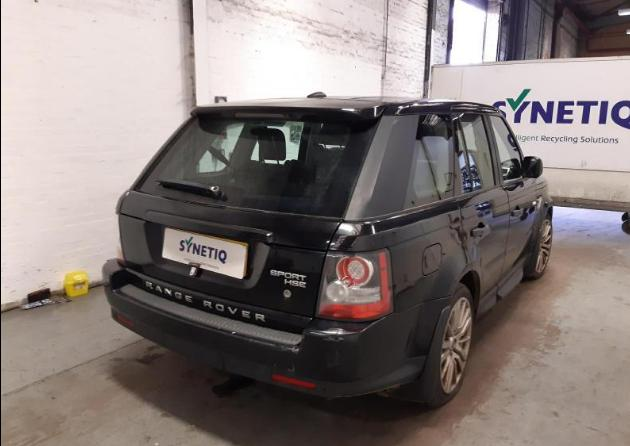Back-bumper: (102, 259, 452, 400)
Back-door: (453, 114, 509, 299)
Back-wheel: (411, 282, 475, 408)
Back-window: (133, 117, 377, 218), (404, 113, 452, 209), (458, 115, 494, 193)
Fender: (524, 176, 553, 276)
Front-door: (485, 113, 540, 284)
Front-wheel: (522, 215, 553, 281)
Front-window: (488, 115, 522, 181)
License-plate: (162, 227, 246, 276)
Mirror: (522, 156, 543, 179)
Quarter-panel: (328, 196, 472, 314)
Rocker-panel: (477, 253, 532, 323)
Roof: (250, 96, 500, 115)
Tail-light: (315, 248, 394, 322), (115, 214, 126, 265)
Trunk: (119, 190, 342, 318), (191, 100, 389, 121)
